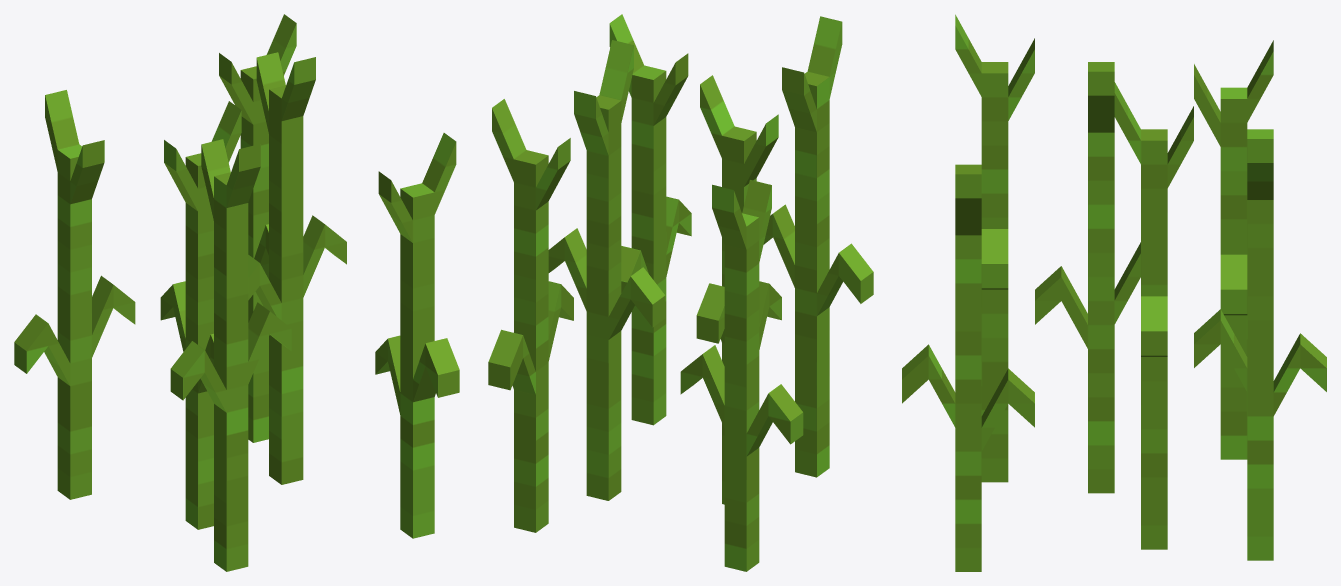
Rendered from Corn3.glb.
The picture shows the model from 3 angles, left to right: view 1: azimuth 30°, elevation 25°; view 2: azimuth 150°, elevation 25°; view 3: azimuth 270°, elevation 25°; orthographic projection. The views are drawn at different scales.
Visible parts, largest first — view 1: CornStage3; view 2: CornStage3; view 3: CornStage3.
Boxes of the visible parts, x1,y1,x2,y2 form: CornStage3: (14, 14, 459, 571); CornStage3: (488, 14, 873, 571); CornStage3: (902, 14, 1326, 571).
Size of the model in its own units: 14 by 19 by 16.
Materials: 1 (1 with a texture image).
